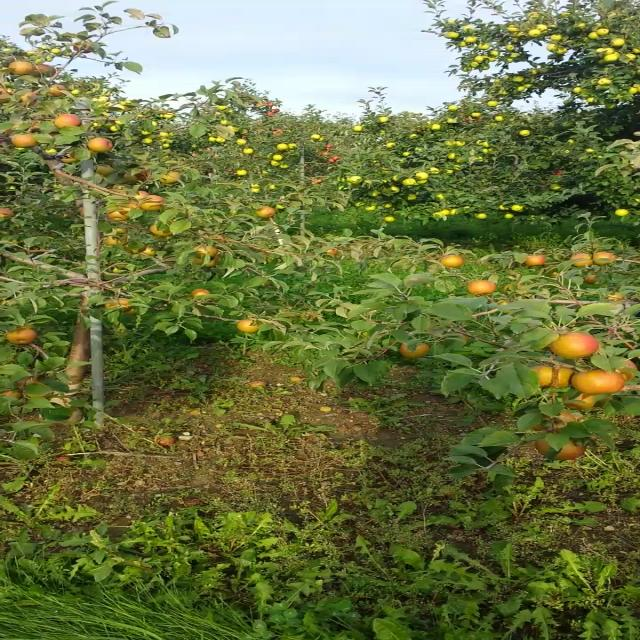apple: (570, 369, 626, 394), (550, 333, 598, 359), (532, 411, 578, 433), (529, 364, 571, 388), (535, 439, 583, 457), (562, 392, 598, 412), (4, 324, 38, 344), (466, 279, 497, 296), (614, 359, 636, 381), (53, 113, 81, 127), (104, 297, 132, 311), (398, 342, 428, 355), (5, 60, 32, 74), (115, 202, 142, 216), (193, 254, 220, 268), (86, 138, 111, 152), (9, 134, 38, 146), (30, 63, 54, 77), (94, 164, 118, 178), (106, 208, 130, 222), (194, 243, 218, 257), (234, 319, 258, 333), (140, 195, 163, 209), (592, 250, 615, 264), (571, 253, 593, 267), (150, 222, 173, 235), (130, 189, 151, 203), (158, 171, 182, 183), (255, 205, 277, 218), (106, 235, 128, 248), (440, 253, 463, 265), (502, 283, 524, 295), (16, 376, 38, 388), (0, 388, 22, 400), (44, 83, 64, 96), (17, 90, 35, 104), (133, 169, 153, 181), (139, 245, 157, 257), (524, 255, 548, 264), (605, 291, 625, 301), (122, 171, 138, 183), (59, 153, 78, 163), (27, 120, 41, 133), (188, 288, 210, 296), (0, 206, 14, 218), (548, 270, 569, 278), (0, 88, 10, 104), (582, 274, 598, 284), (3, 127, 16, 137), (324, 247, 340, 255), (494, 300, 513, 306), (456, 331, 468, 339), (123, 308, 136, 314), (78, 207, 84, 216)
